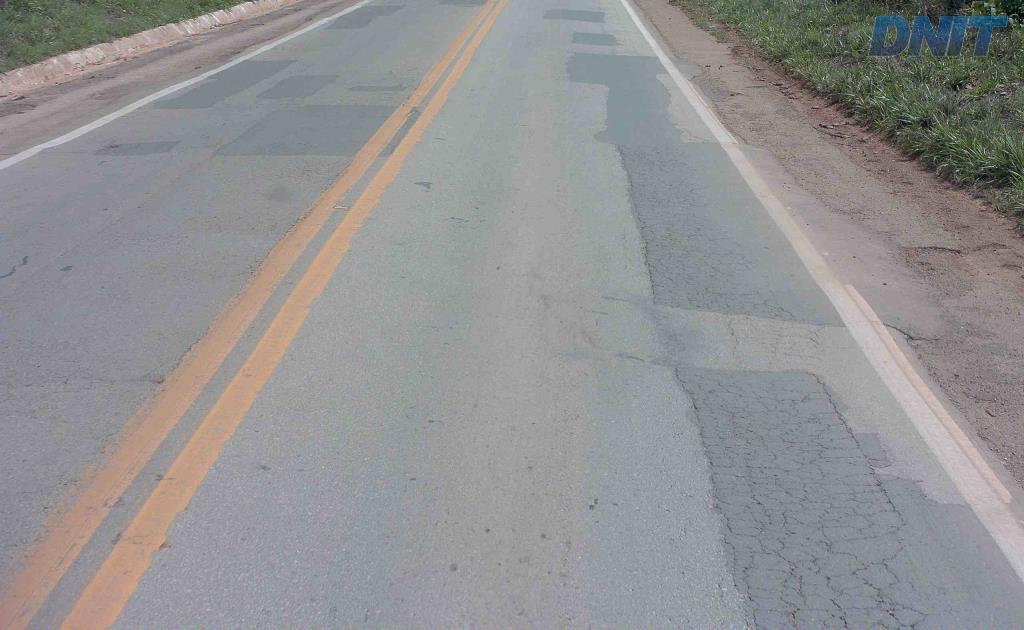crack: (630, 193, 664, 304), (701, 395, 765, 444), (673, 367, 713, 442)
